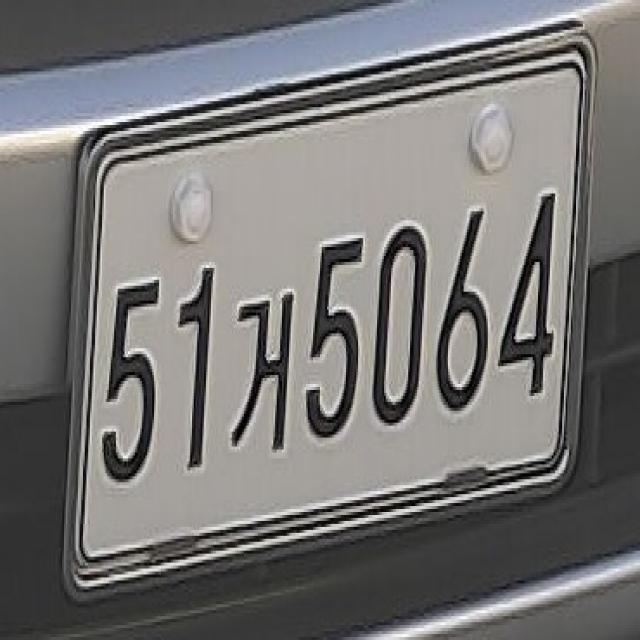0: (374, 205, 430, 446)
1: (173, 258, 218, 492)
4: (496, 183, 562, 409)
5: (100, 253, 166, 497), (305, 220, 368, 458)
6: (434, 194, 496, 432)
geo: (231, 273, 294, 474)
license_plate: (64, 17, 600, 602)
